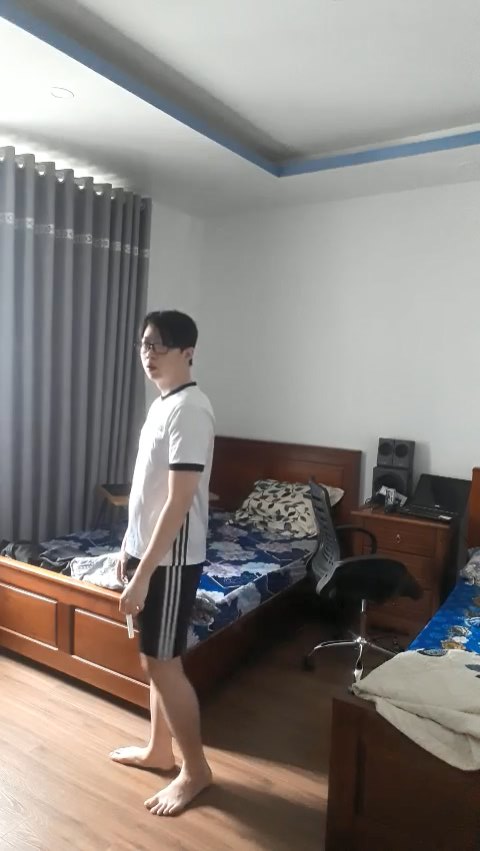cigarette: (124, 612, 136, 639)
person: (87, 301, 225, 823)
